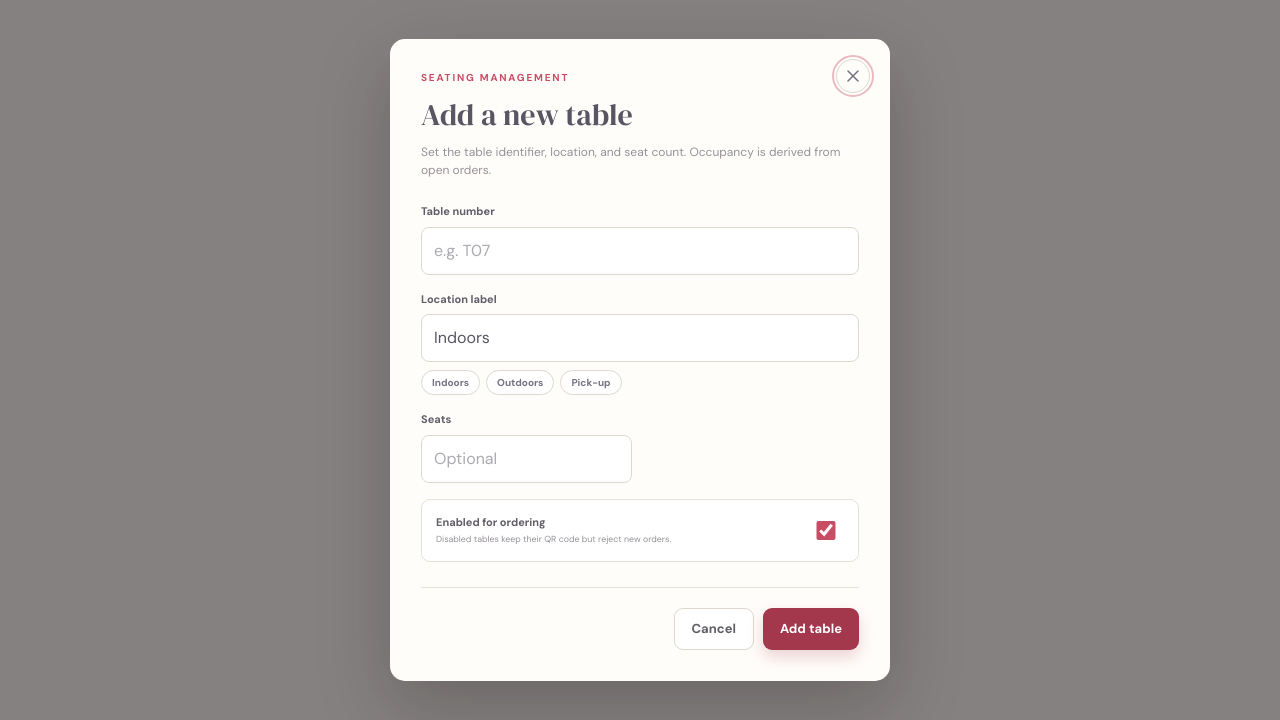
TableModal › rejects seat counts outside 1–12
Type "T07" into the field labelled "Table number" at (640, 251), box [421,227,859,275]
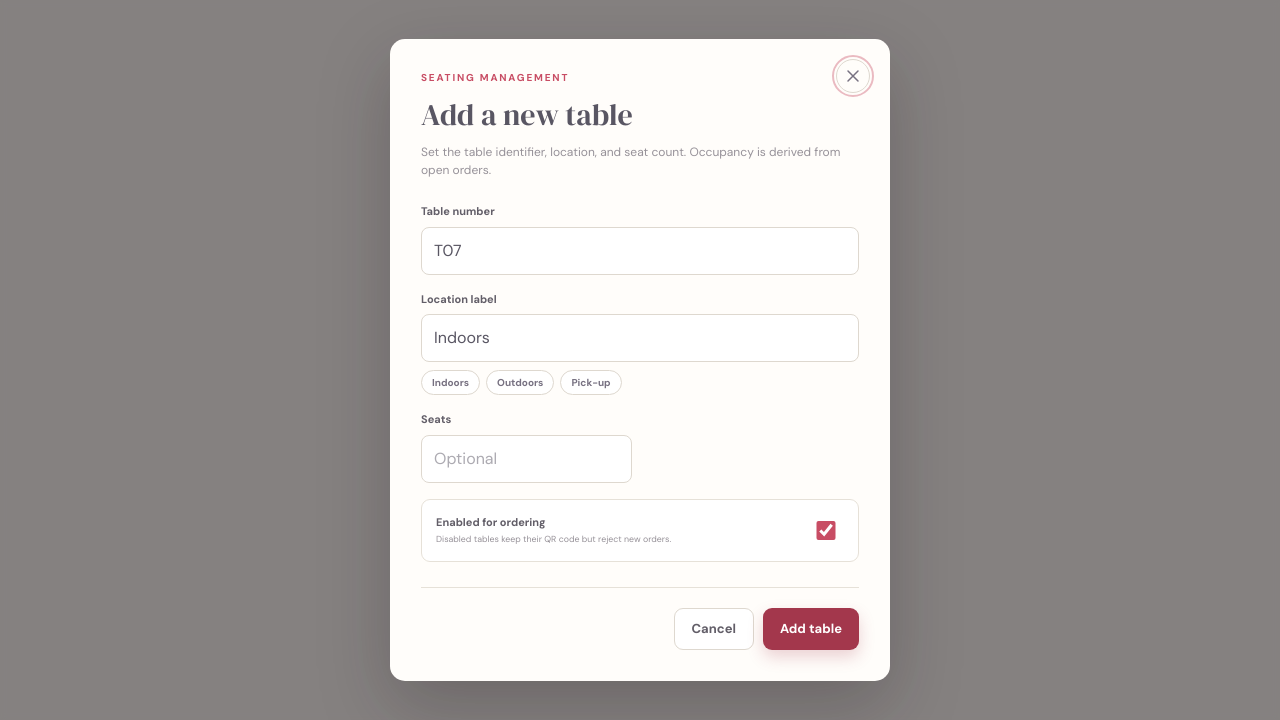
Type "13" into the number field labelled "Seats" at (526, 459), box [421,435,632,483]
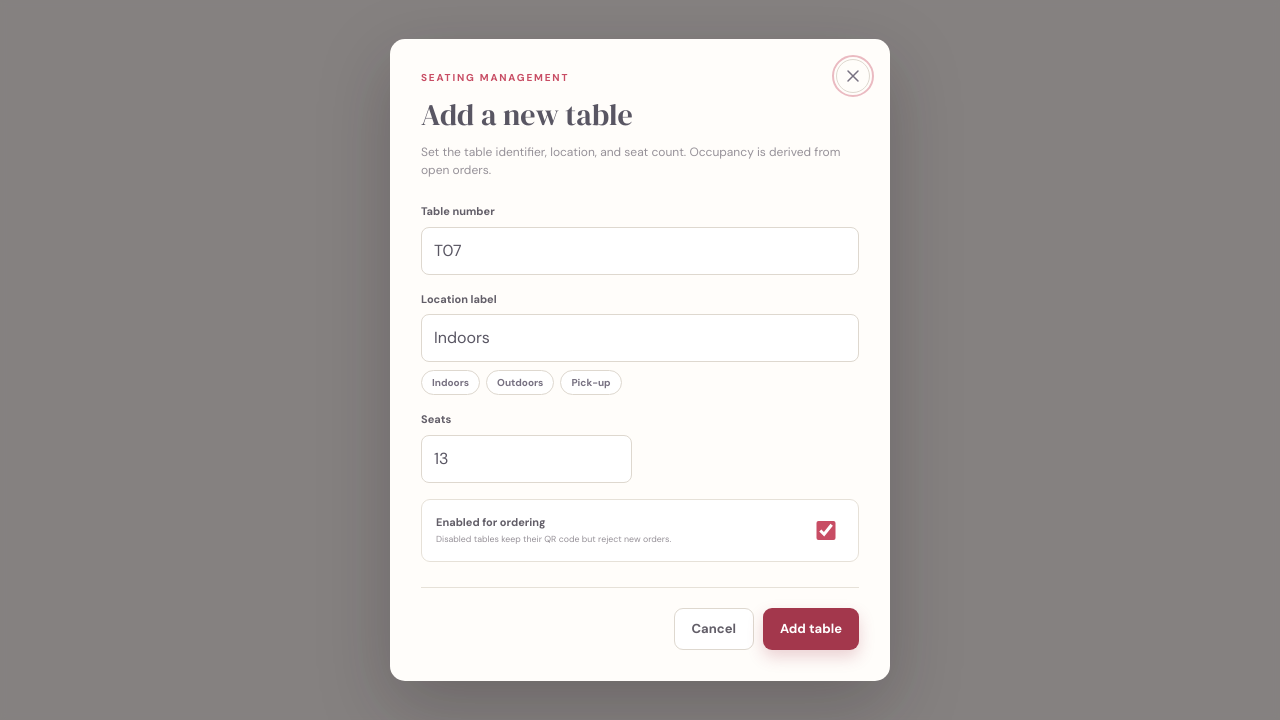
Submit the form named "add table", box [421,70,859,650]
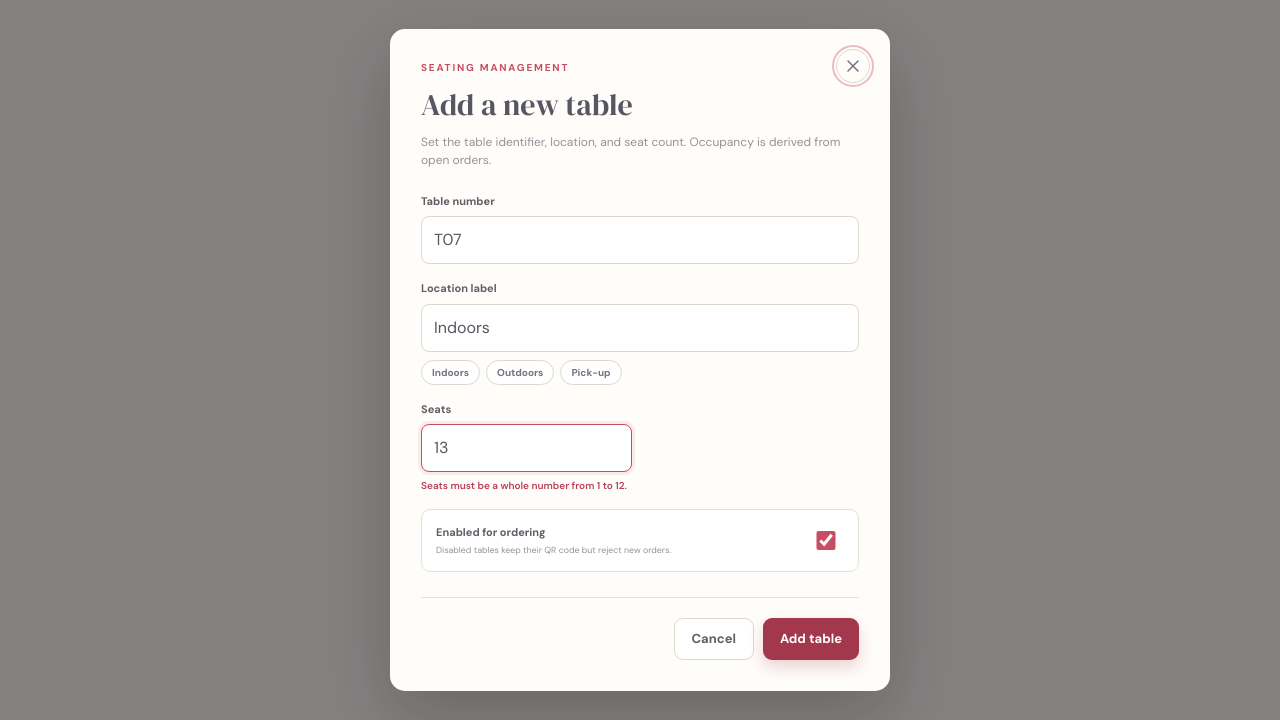
Expected: the text "Seats must be a whole number from 1 to 12." is shown, [421,478,632,493]
